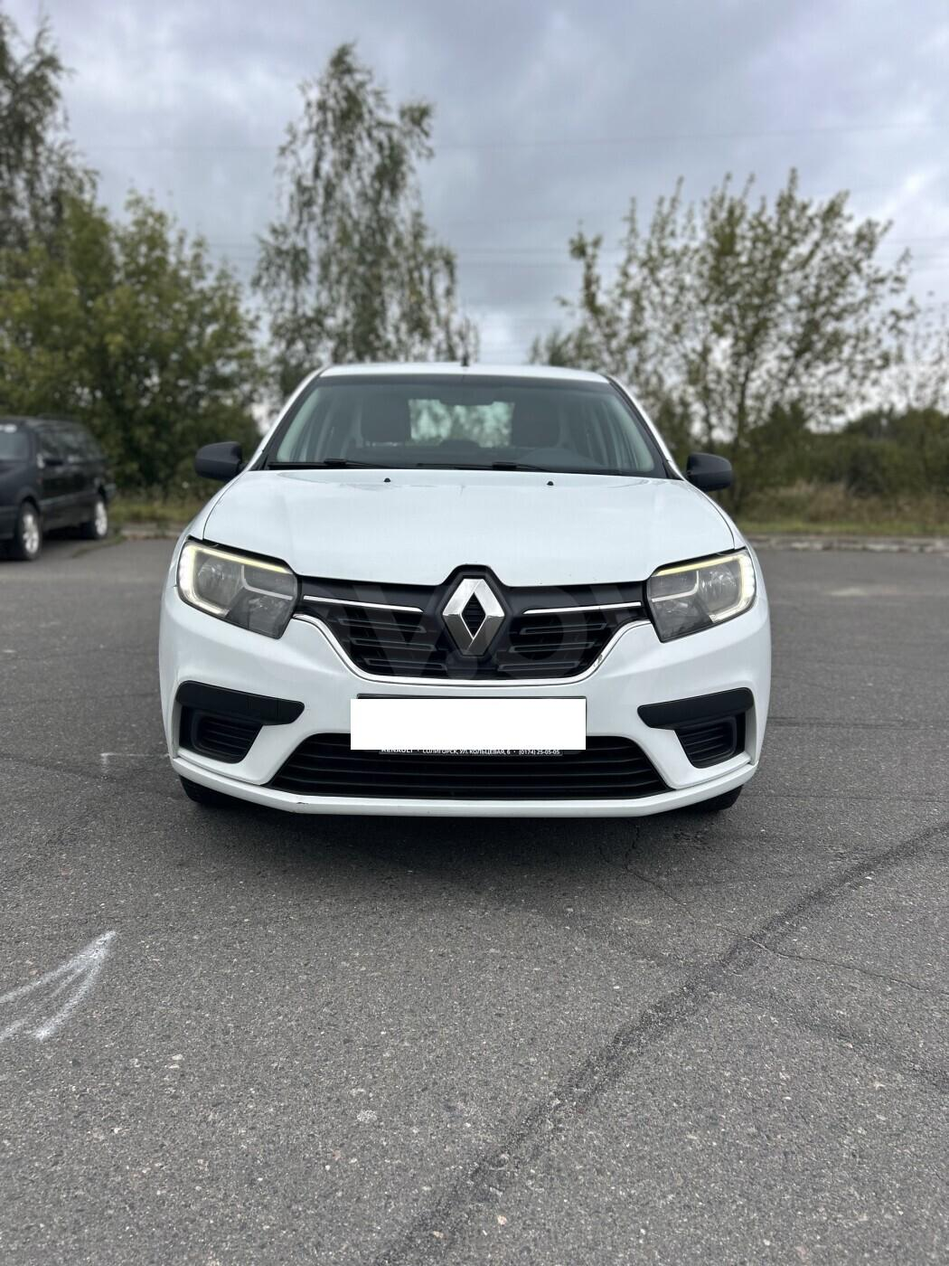Logan_2018: (130, 358, 781, 841)
